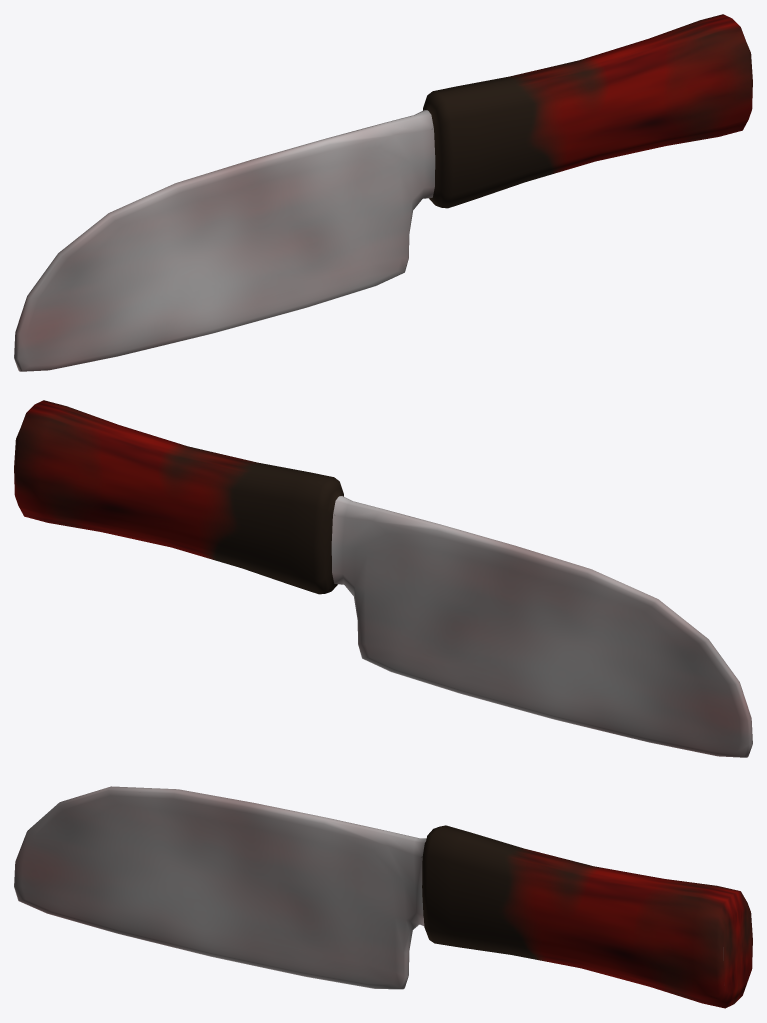
The model's file is knife.fbx.
3 views of the same model, one above another, from view 1: azimuth 30°, elevation 25°; view 2: azimuth 150°, elevation 25°; view 3: azimuth 330°, elevation 25° (orthographic).
Parts seen in each view (by area): view 1: Knife; view 2: Knife; view 3: Knife.
Boxes of the visible parts, x1=… form: Knife: x1=14, y1=14, x2=752, y2=371; Knife: x1=14, y1=400, x2=752, y2=757; Knife: x1=14, y1=786, x2=752, y2=1008.
Size of the model in its own units: 0.705 by 0.1747 by 0.0585.
1 material, 1 textured.
